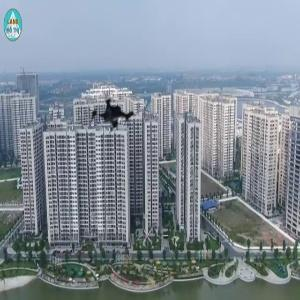drone: (82, 76, 150, 144)
